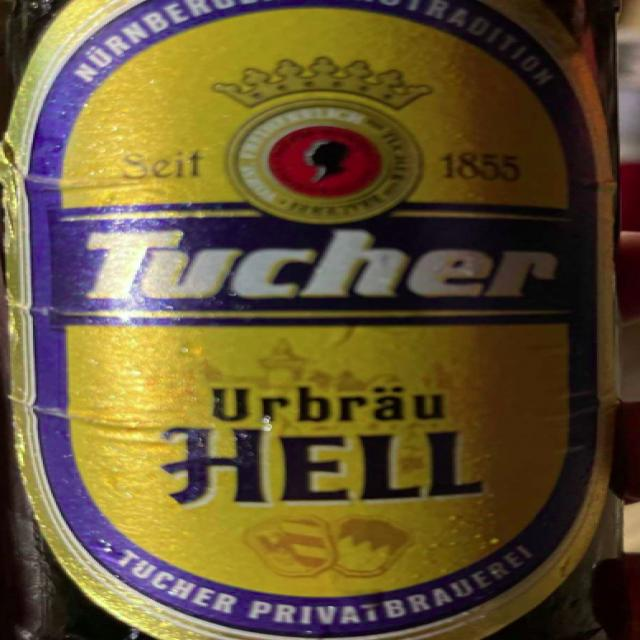Tucher Urbrau Hell: (1, 0, 640, 640)
